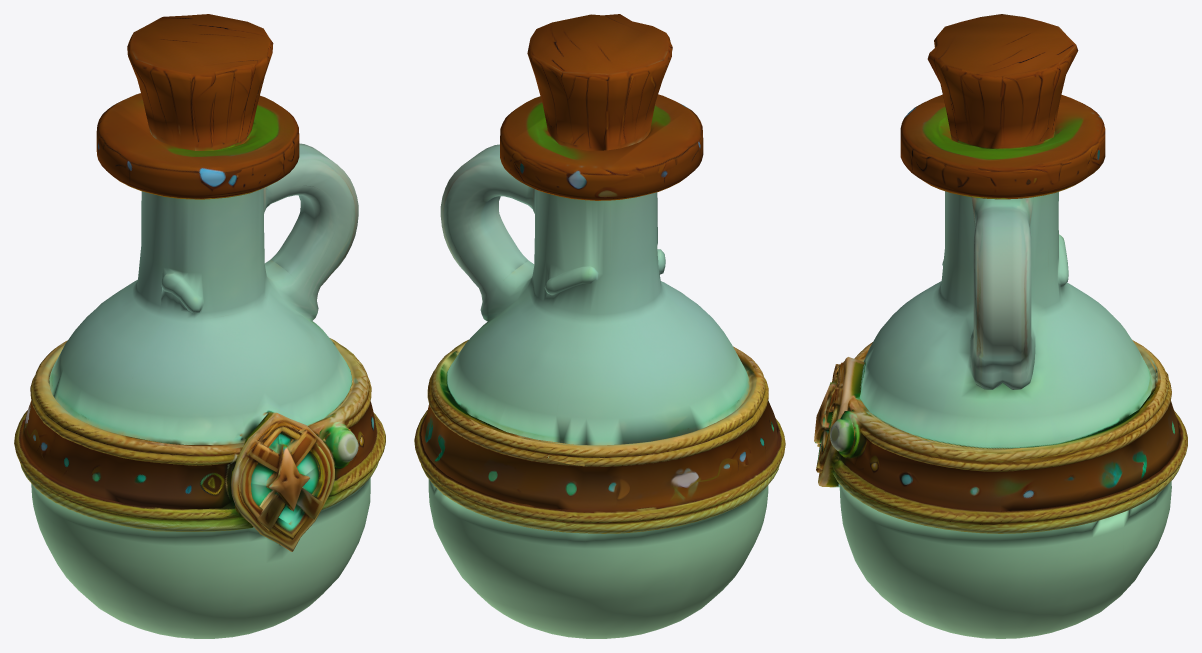
The model's file is item2_potion.fbx.
3 views of the same model, side by side, from view 1: azimuth 30°, elevation 25°; view 2: azimuth 150°, elevation 25°; view 3: azimuth 270°, elevation 25° (orthographic).
Parts seen in each view (by area): view 1: texture_pbr_v128; view 2: texture_pbr_v128; view 3: texture_pbr_v128.
Boxes of the visible parts, x1,y1,x2,y2 form: texture_pbr_v128: [14, 14, 385, 638]; texture_pbr_v128: [414, 14, 785, 638]; texture_pbr_v128: [814, 14, 1187, 638].
Bounding box in the file's own units: 69.41 × 117 × 69.89.
Materials: 1 (1 with a texture image).
